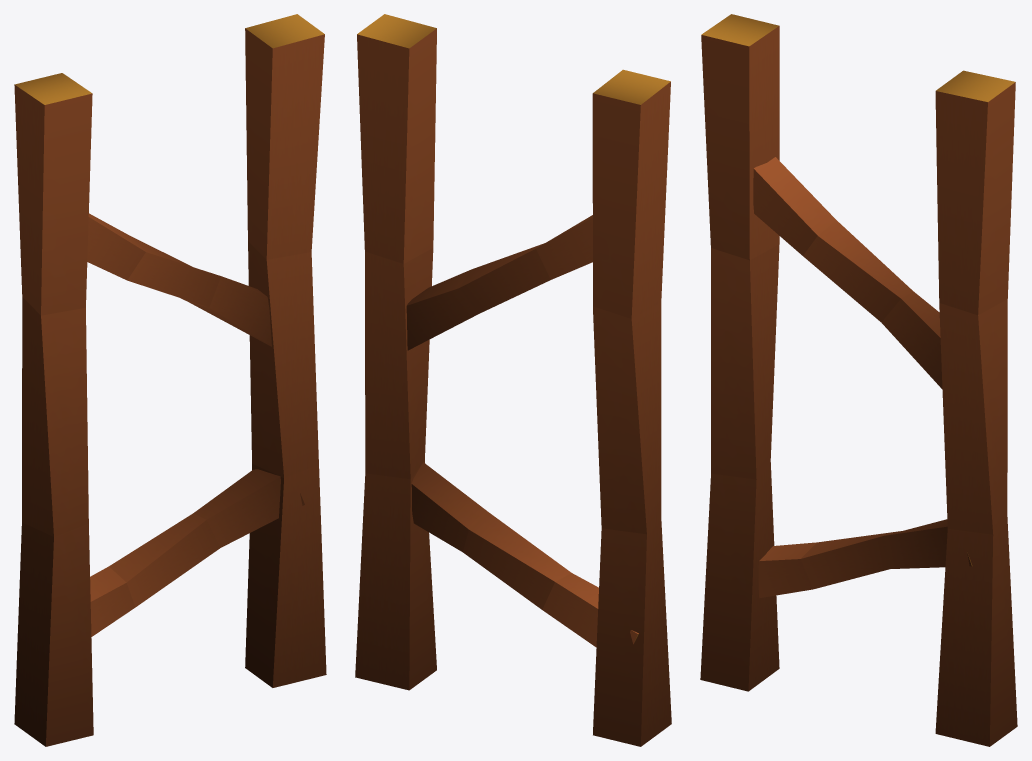
The model's file is wood_001.fbx.
3 views of the same model, side by side, from view 1: azimuth 30°, elevation 25°; view 2: azimuth 150°, elevation 25°; view 3: azimuth 330°, elevation 25° (orthographic).
Parts seen in each view (by area): view 1: wood.001; view 2: wood.001; view 3: wood.001.
Boxes of the visible parts, box(x1,y1,x2,y2) form: wood.001: box(14, 14, 326, 746); wood.001: box(355, 14, 671, 746); wood.001: box(700, 14, 1017, 746).
Bounding box in the file's own units: 346 × 744 × 68.42.
